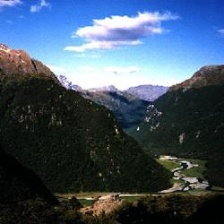neutral: (5, 3, 224, 222)
